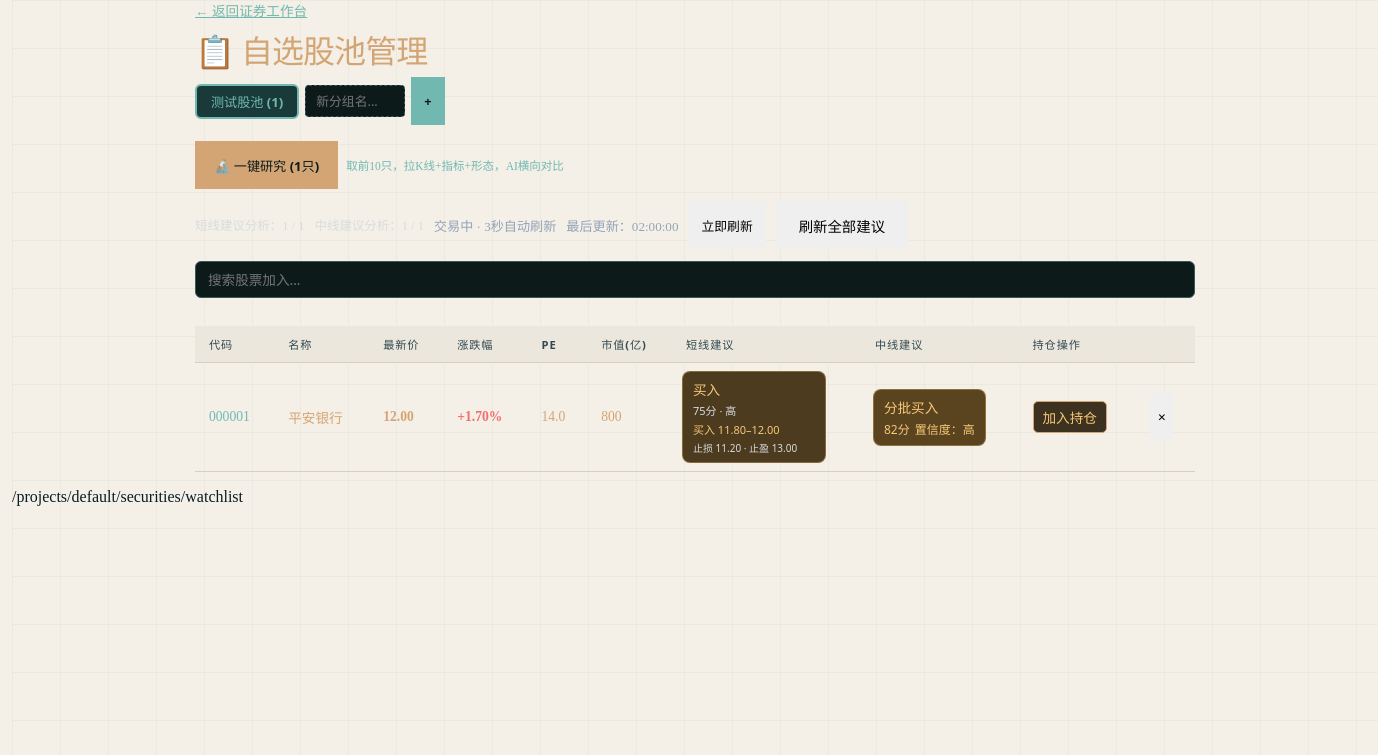
Test case: WatchlistPage buy advice integration › expands short-term advice without navigating
What coordinates should you click on to do the following:
click the button with aria-label "查看平安银行短线建议"
I would click on:
 (754, 417)
Its box is [682,371,826,463].
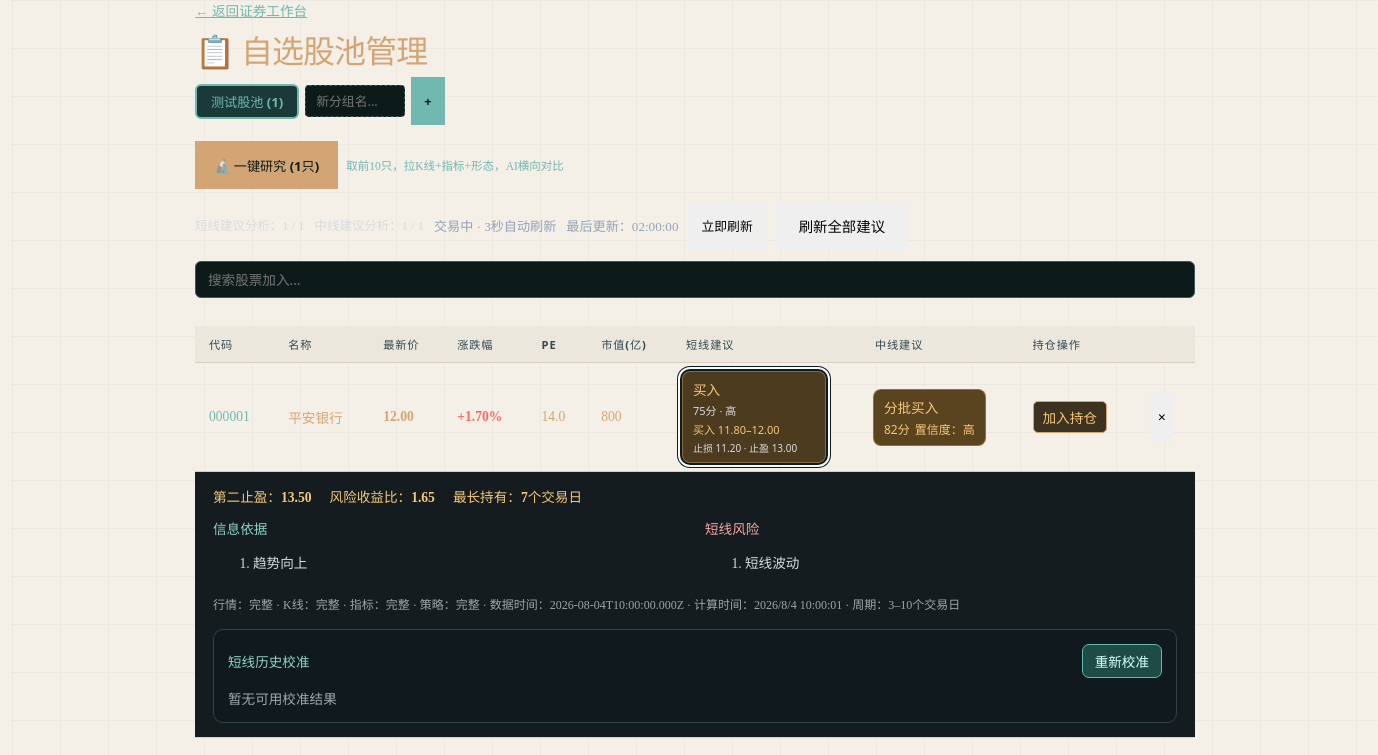
Expected: the text "第二止盈：13.50" is shown, [213,486,312,506]
